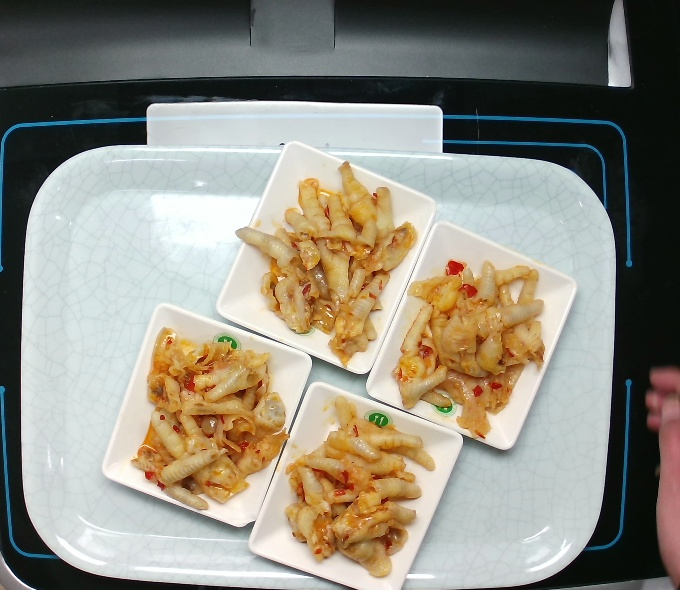wcq-LuJiZhua: (225, 154, 423, 380), (382, 249, 554, 446), (124, 322, 298, 512), (276, 388, 439, 581)
